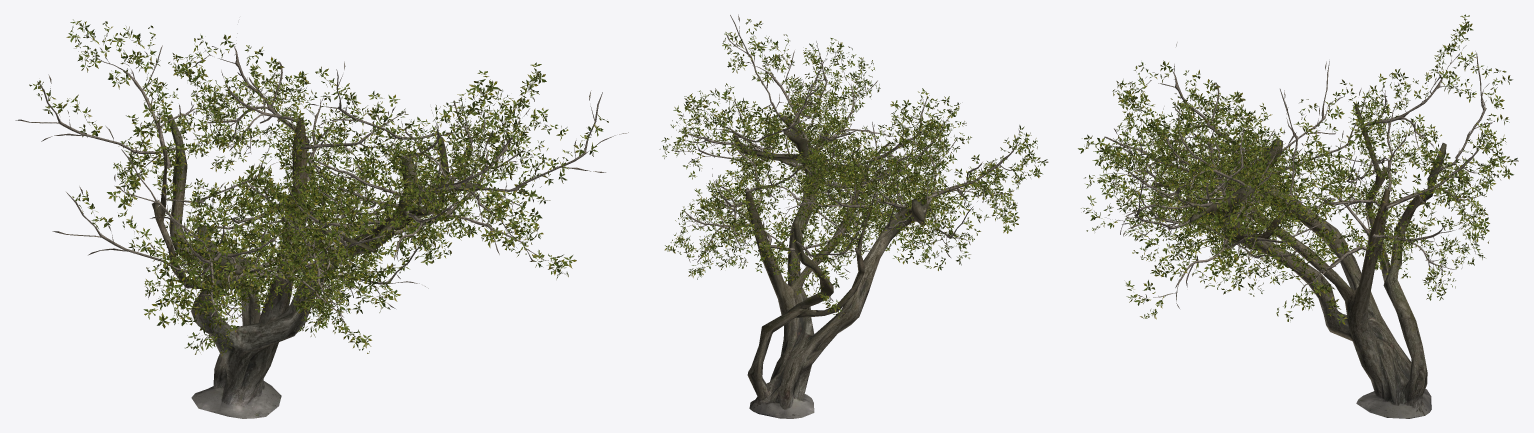
File: island_tree_02.glb
3 views of the same model, side by side, from view 1: azimuth 30°, elevation 25°; view 2: azimuth 150°, elevation 25°; view 3: azimuth 270°, elevation 25° (orthographic). The views are drawn at different scales.
Parts seen in each view (by area): view 1: island_tree_02_LOD0; view 2: island_tree_02_LOD0; view 3: island_tree_02_LOD0.
Boxes of the visible parts, x1,y1,x2,y2 form: island_tree_02_LOD0: [15, 19, 628, 418]; island_tree_02_LOD0: [659, 14, 1048, 418]; island_tree_02_LOD0: [1078, 14, 1518, 418].
Size of the model in its own units: 4.21 by 3.4 by 4.07.
3 materials, 3 textured.
